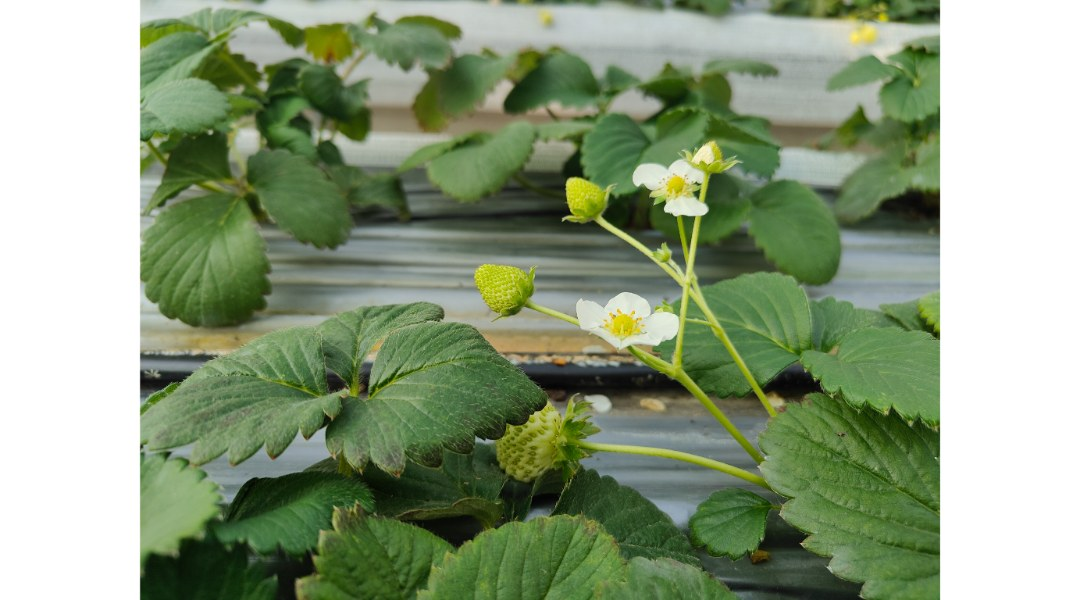berry: (479, 411, 596, 471), (461, 261, 538, 311), (674, 132, 741, 184), (553, 174, 615, 220)
flower: (572, 291, 677, 356), (628, 160, 710, 216)
strain: (699, 303, 782, 415), (609, 439, 770, 494), (592, 206, 678, 279), (678, 378, 759, 454)
